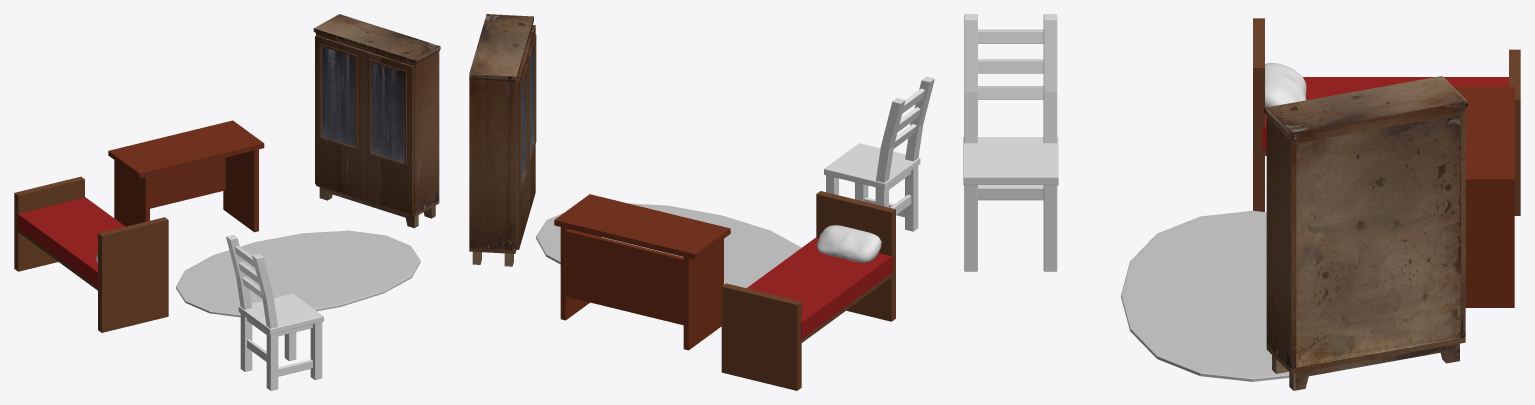
3 views of the same model, side by side, from view 1: azimuth 30°, elevation 25°; view 2: azimuth 150°, elevation 25°; view 3: azimuth 270°, elevation 25° (orthographic). The views are drawn at different scales.
Visible parts, largest first — view 1: shkaf_4.ogf 12, Cube, Cube.003, Cube.001, Cube.009; view 2: Cube, Cube.001, shkaf_4.ogf 12, Cube.009, Cube.003; view 3: shkaf_4.ogf 12, Cube.003, Cube.009, Cube.001, Cube.
Boxes of the visible parts, <box> form: shkaf_4.ogf 12: <box>313,14,440,228</box>; Cube: <box>14,176,168,332</box>; Cube.003: <box>176,230,420,317</box>; Cube.001: <box>108,120,264,232</box>; Cube.009: <box>226,235,323,390</box>; Cube: <box>721,191,895,390</box>; Cube.001: <box>554,194,730,350</box>; shkaf_4.ogf 12: <box>469,14,536,266</box>; Cube.009: <box>824,76,934,231</box>; Cube.003: <box>536,203,801,288</box>; shkaf_4.ogf 12: <box>1264,76,1467,390</box>; Cube.003: <box>1121,210,1289,381</box>; Cube.009: <box>963,14,1058,271</box>; Cube.001: <box>1453,86,1514,307</box>; Cube: <box>1253,18,1520,215</box>.
Size of the model in its own units: 1297 by 706 by 1166.
